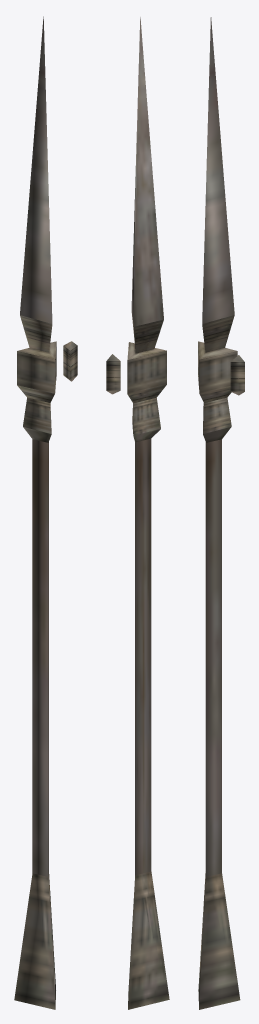
The model's file is thm_imprv_tato_antenna_s01_l4.fbx.
3 renders of one model, left to right at view 1: azimuth 30°, elevation 25°; view 2: azimuth 210°, elevation 25°; view 3: azimuth 330°, elevation 25°, orthographic.
Visible parts, largest first — view 1: mesh_node; view 2: mesh_node; view 3: mesh_node.
Boxes of the visible parts, bbox=[...] form: mesh_node: bbox=[14, 16, 77, 1009]; mesh_node: bbox=[106, 17, 169, 1009]; mesh_node: bbox=[198, 17, 244, 1009].
Size of the model in its own units: 1.85 by 31.73 by 1.19.
